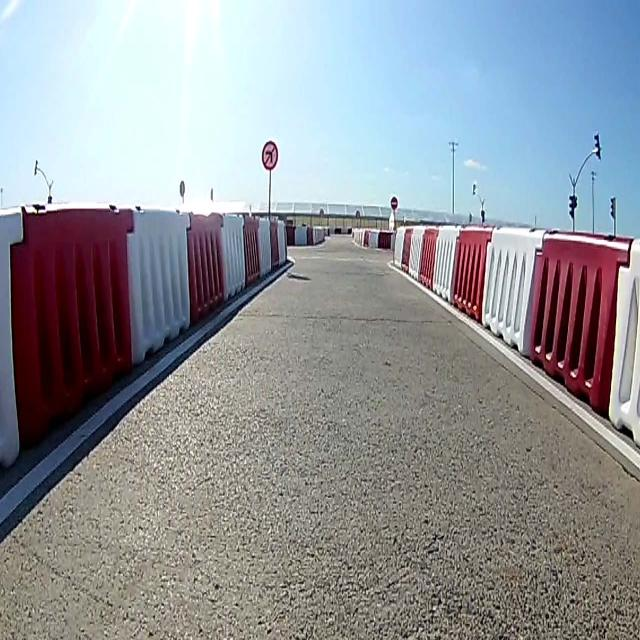girisyok: (391, 194, 397, 210)
soladonulmez: (262, 139, 278, 173)
